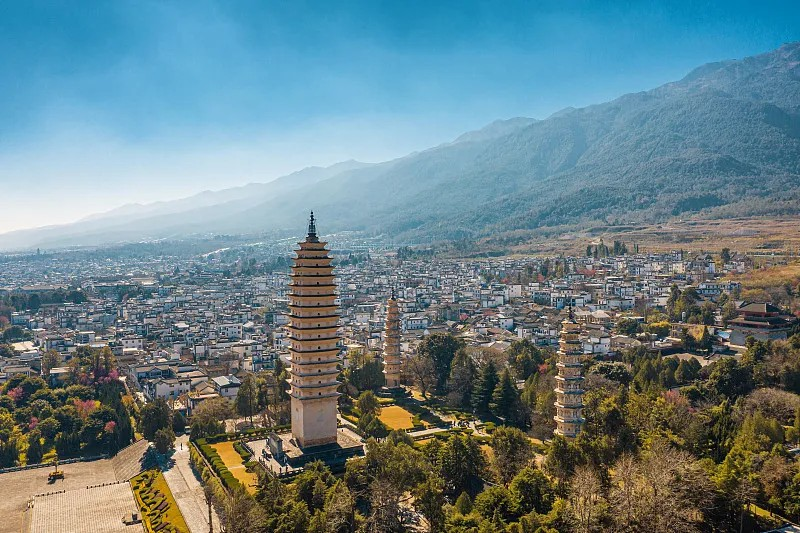ThreePagoda: (286, 210, 342, 449)
